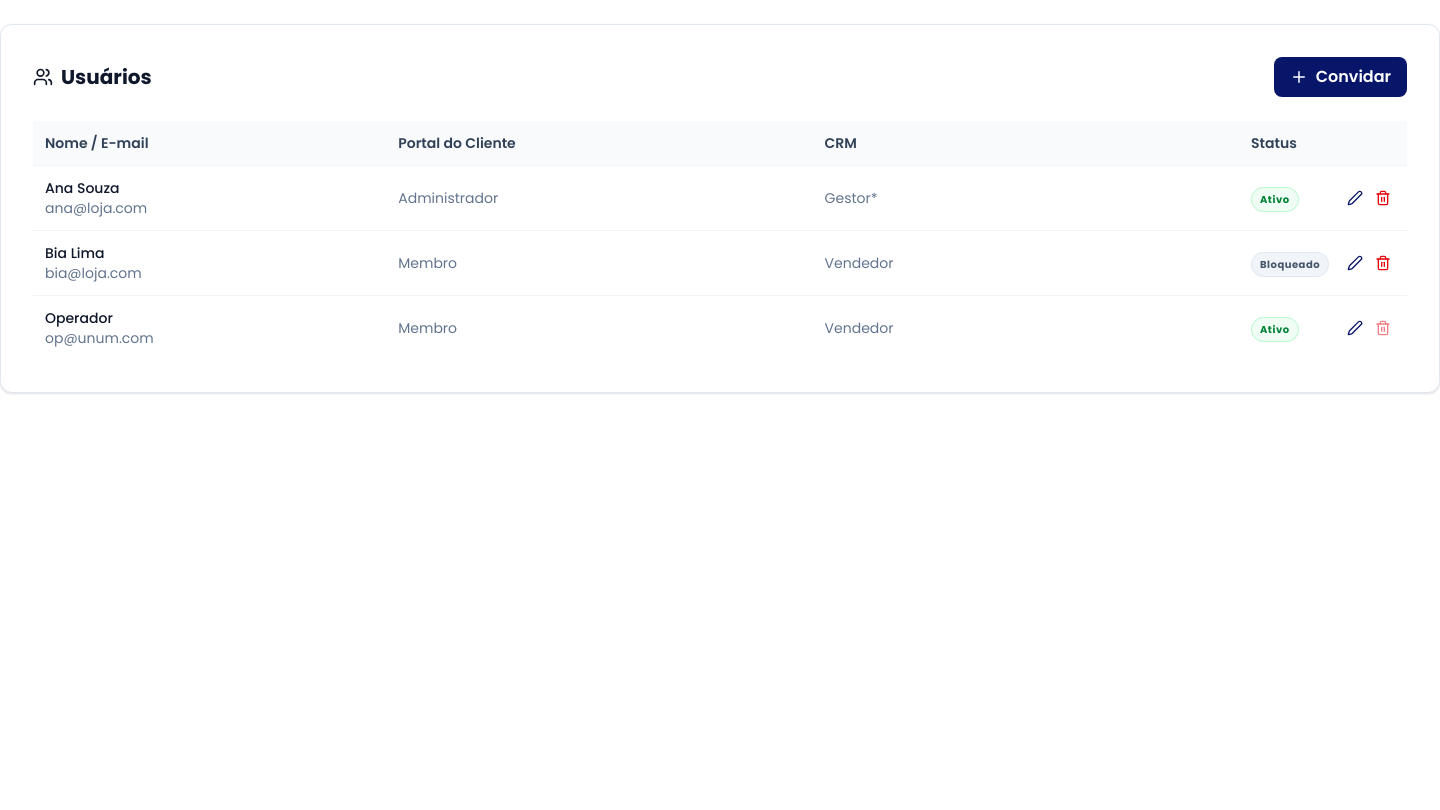
Test: TenantUsersSection › própria conta: tudo travado, com a explicação
The width and height of the screenshot is (1440, 810).
Click the button named "Editar acesso de Operador". click: point(1355, 328)
box: left=1343, top=316, right=1367, bottom=340
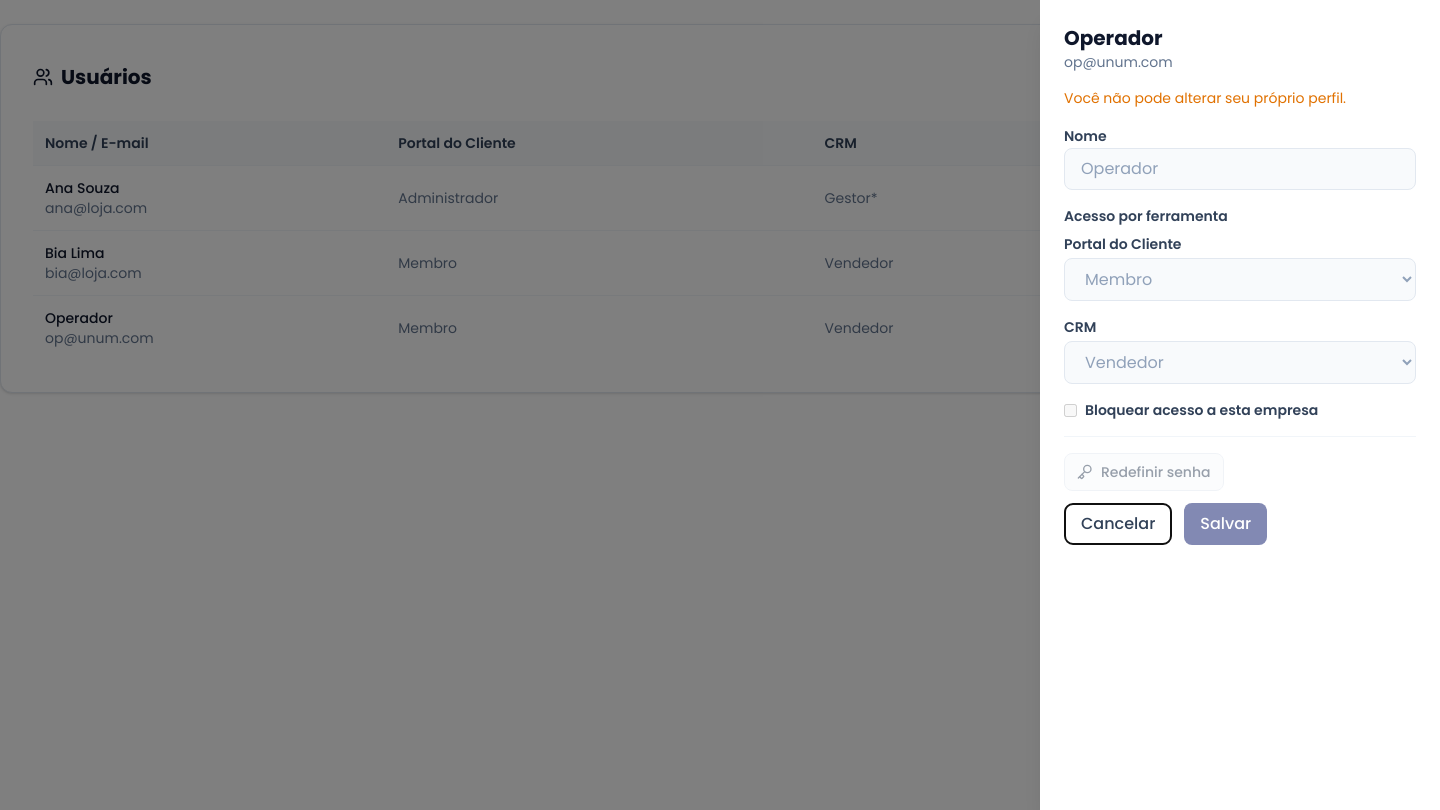
Expected: the text "Você não pode alterar seu próprio perfil." is shown, left=1064, top=88, right=1346, bottom=108
Expected: the dropdown labelled "Portal do Cliente" is disabled, left=1064, top=258, right=1416, bottom=301
Expected: the button "Salvar" is disabled, left=1184, top=503, right=1267, bottom=545
